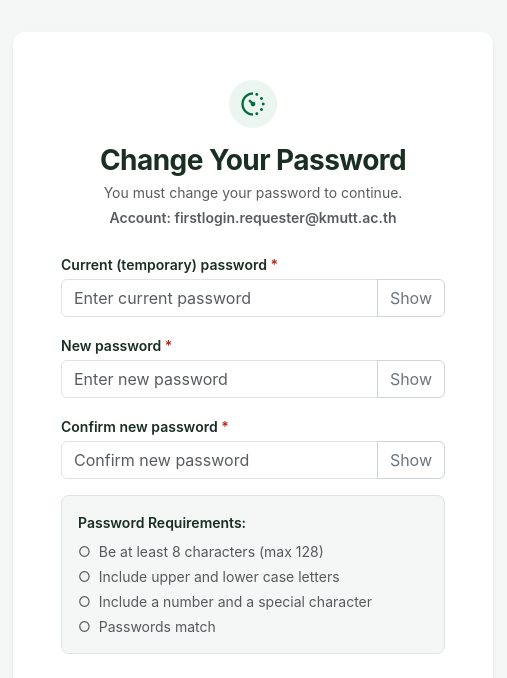
Test: ChangePassword Component (UI-02) › UI-02.3: Submit button enables only when all rules are met and current password is provided
The image size is (507, 678).
Note: Fill valid new passwords but leave current password empty
In the password field with test id "new-password-input": (219, 379) [61,360,378,398], type "NewSecurePass123!"
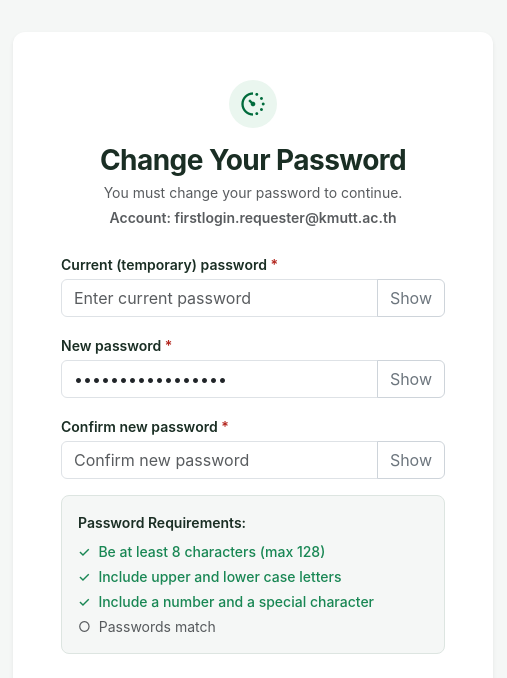
In the password field with test id "confirm-password-input": (219, 460) [61,441,378,479], type "NewSecurePass123!"
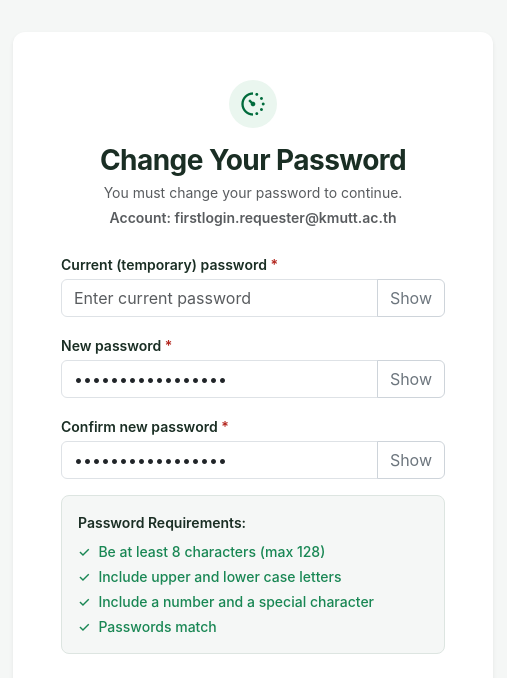
Note: Fill current password
In the password field with test id "current-password-input": (219, 298) [61,279,378,317], type "InitialPass123!"
(page scrolled)
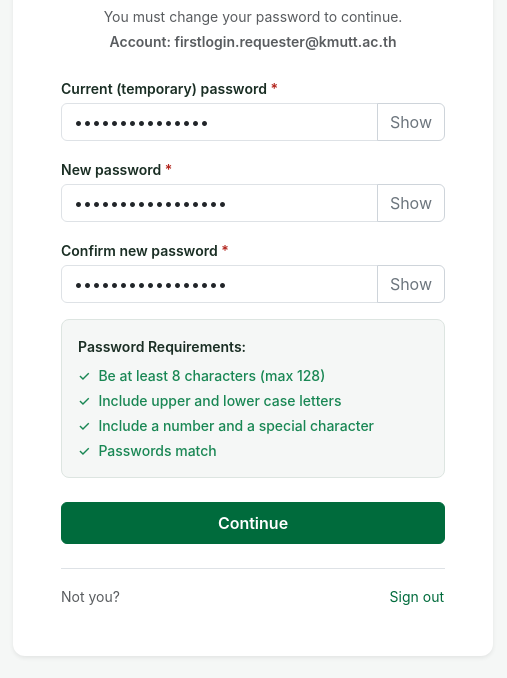
Now the button with test id "change-password-submit-btn" is enabled, box [61,502,445,544]
